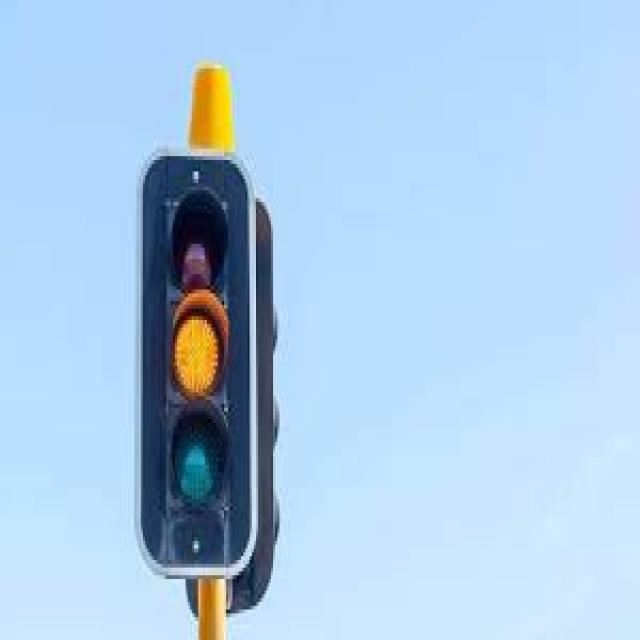yellow light: (146, 164, 243, 562)
